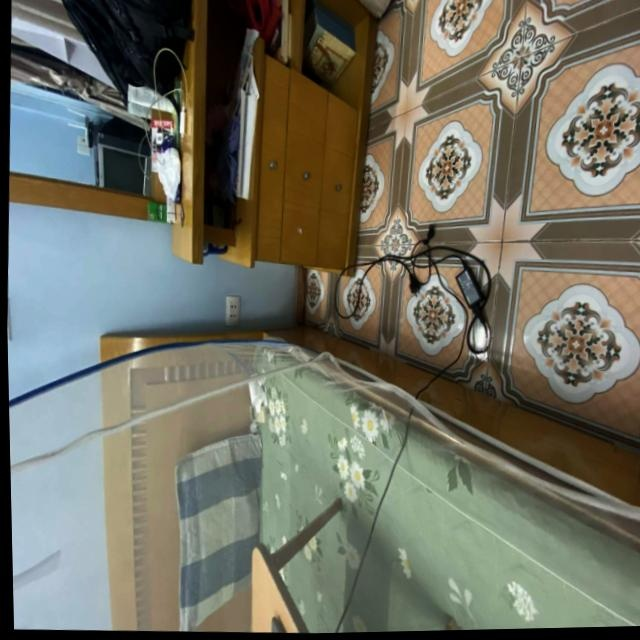outlet: (225, 294, 240, 325)
